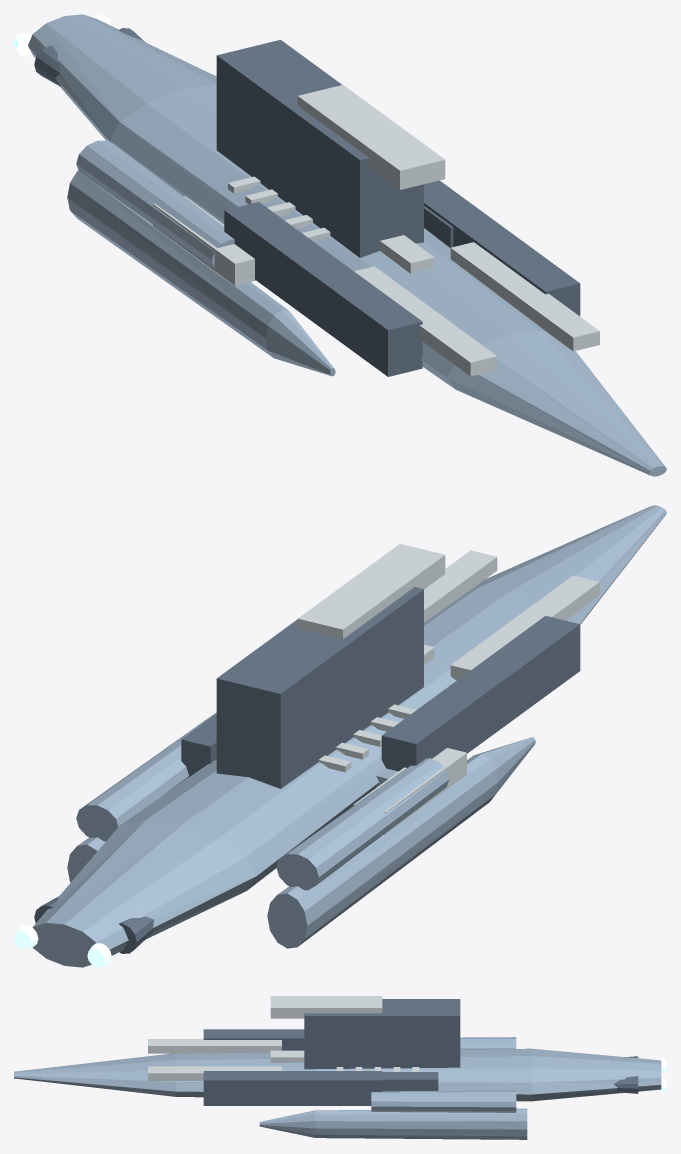
3 views of the same model, one above another, from view 1: azimuth 30°, elevation 25°; view 2: azimuth 150°, elevation 25°; view 3: azimuth 270°, elevation 25° (orthographic). The views are drawn at different scales.
Bounding box in the file's own units: 2.98 × 2.38 × 12.75.
